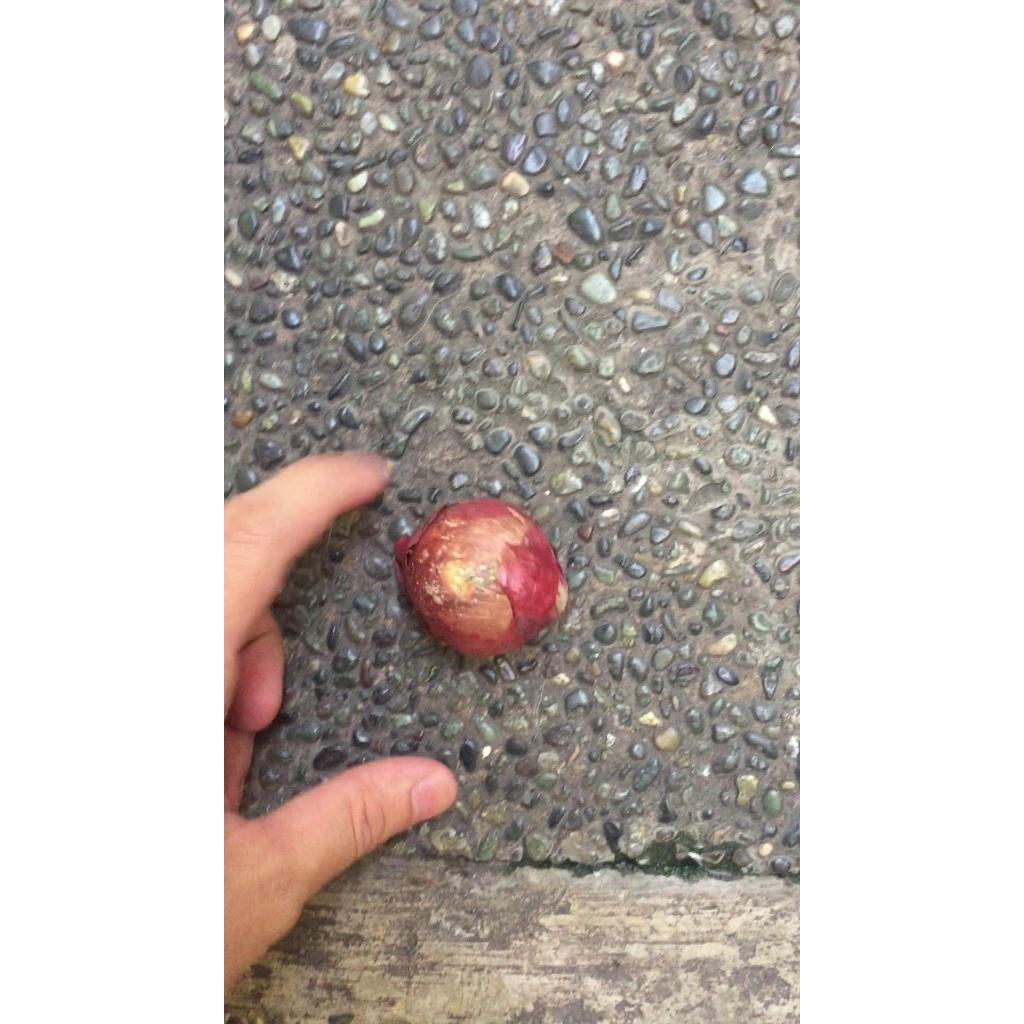Onion: (394, 499, 567, 657)
